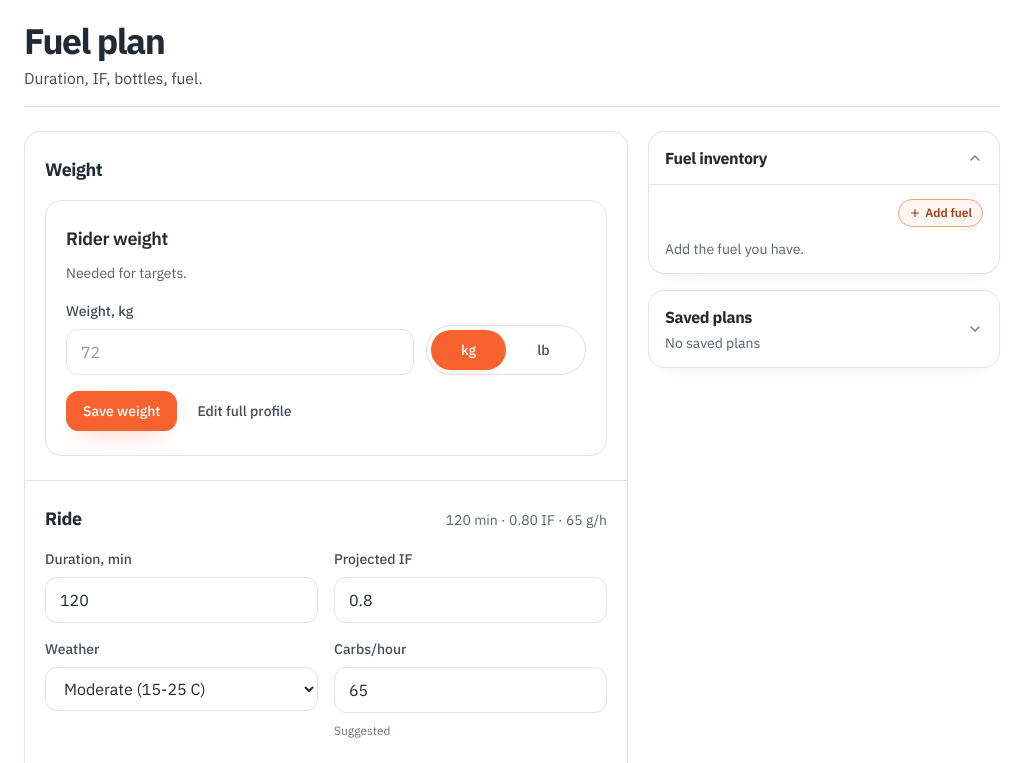
Test: PlannerPage weight gate › lets the rider set weight without leaving the planner
Expected: the heading "Rider weight" is shown, [66,227,168,250]
Type "70" into the number field labelled "Weight, kg".
click(240, 352); type("70")  # box [66,329,414,375]
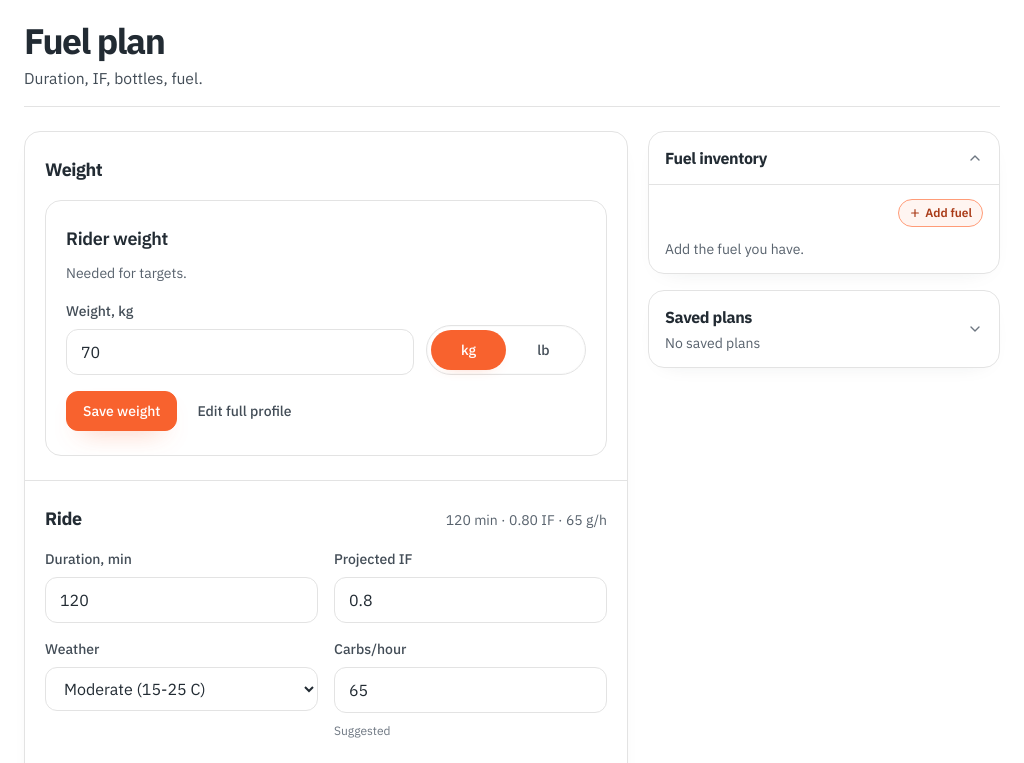
Click the button "Save weight".
click(122, 411)  # box [66,391,177,431]
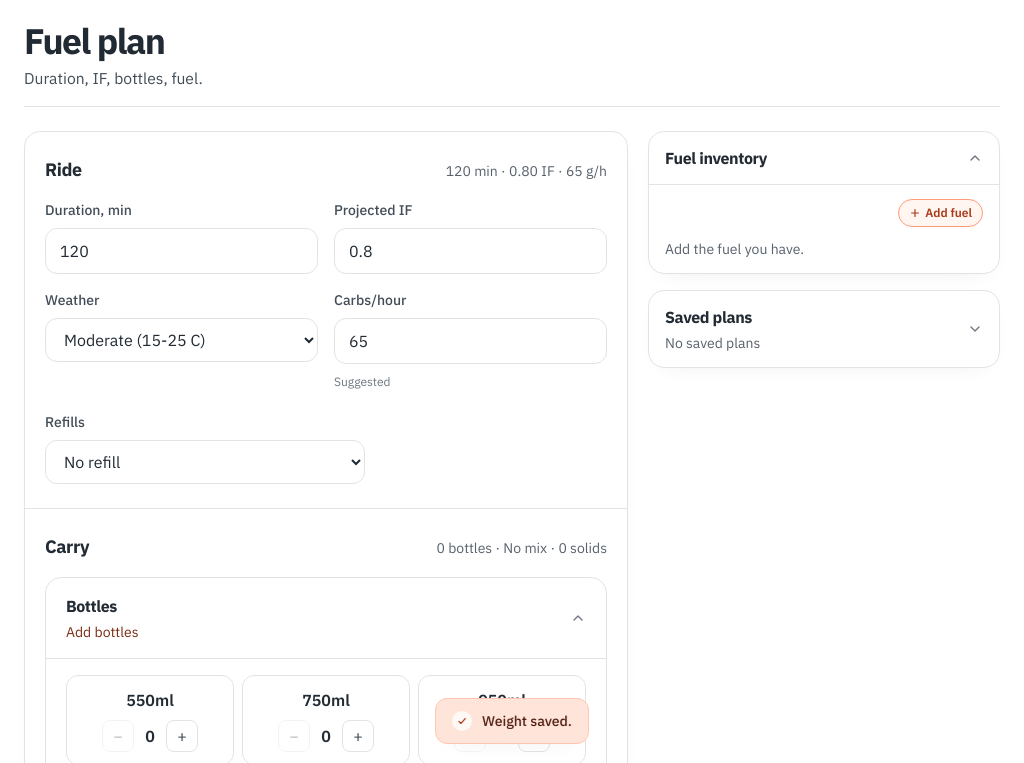
Expected: the heading "Rider weight" is gone
